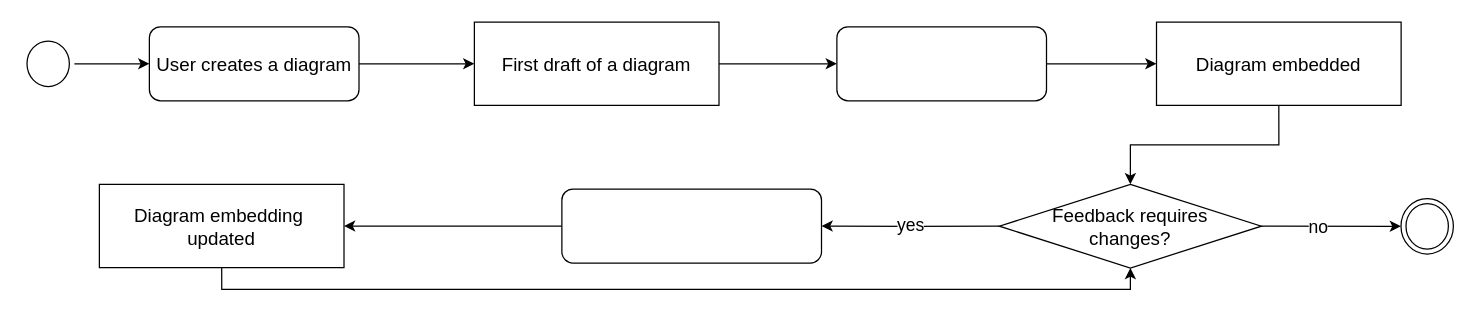
Some shapes in this 1476 by 321 pixel diagram are drawn without their labels. The centre of each missing label's shape, as x and y in pixels:
"User embeds diagram in a Git pull request" goes at [941,63].
"User updates diagram and publishes new version" goes at [691,225].
